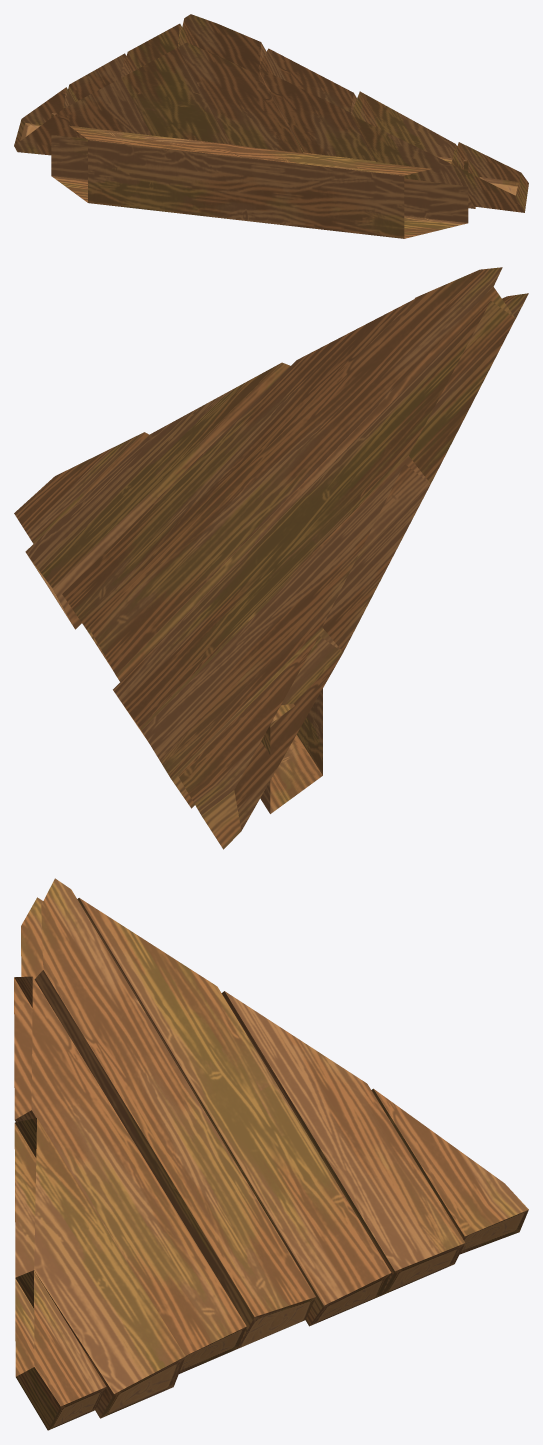
File: roof_wooden_2x1_corner.gltf
3 renders of one model, top to bottom at view 1: azimuth 30°, elevation 25°; view 2: azimuth 150°, elevation 25°; view 3: azimuth 270°, elevation 25°, orthographic. The views are drawn at different scales.
Visible parts, largest first — view 1: Roof_Wooden_2x1_Corner; view 2: Roof_Wooden_2x1_Corner; view 3: Roof_Wooden_2x1_Corner.
Boxes of the visible parts, bbox=[...] form: Roof_Wooden_2x1_Corner: bbox=[14, 14, 528, 238]; Roof_Wooden_2x1_Corner: bbox=[14, 267, 528, 849]; Roof_Wooden_2x1_Corner: bbox=[14, 878, 528, 1430].
Size of the model in its own units: 1.54 by 1.18 by 1.56.
Materials: 2 (2 with a texture image).
